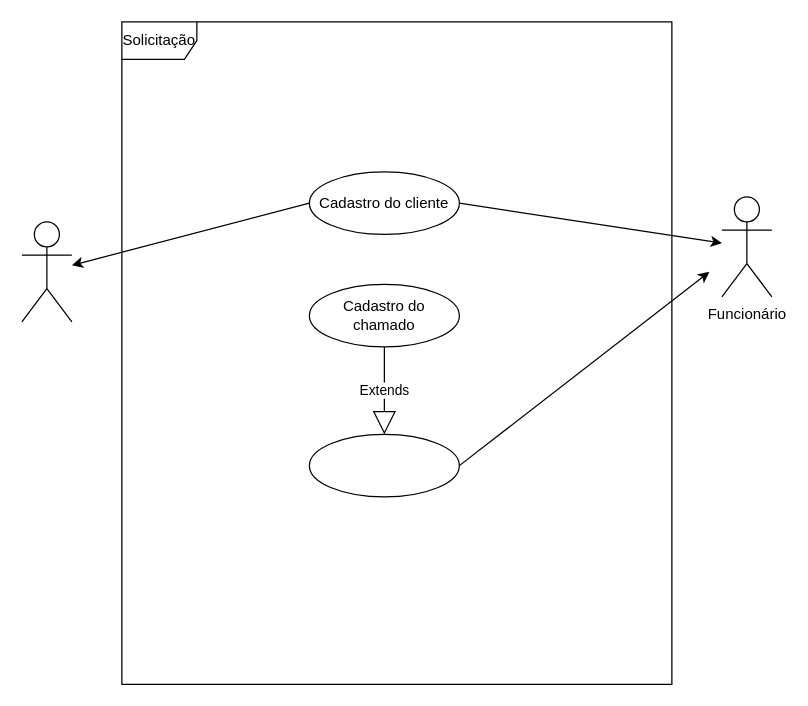
The diagram is 808 pixels wide and 706 high, and some of its shapes have lost their labels. Each missing label, with the box of its shape:
Atualização do chamado: (308, 433, 459, 497)
Cliente: (21, 221, 72, 322)
